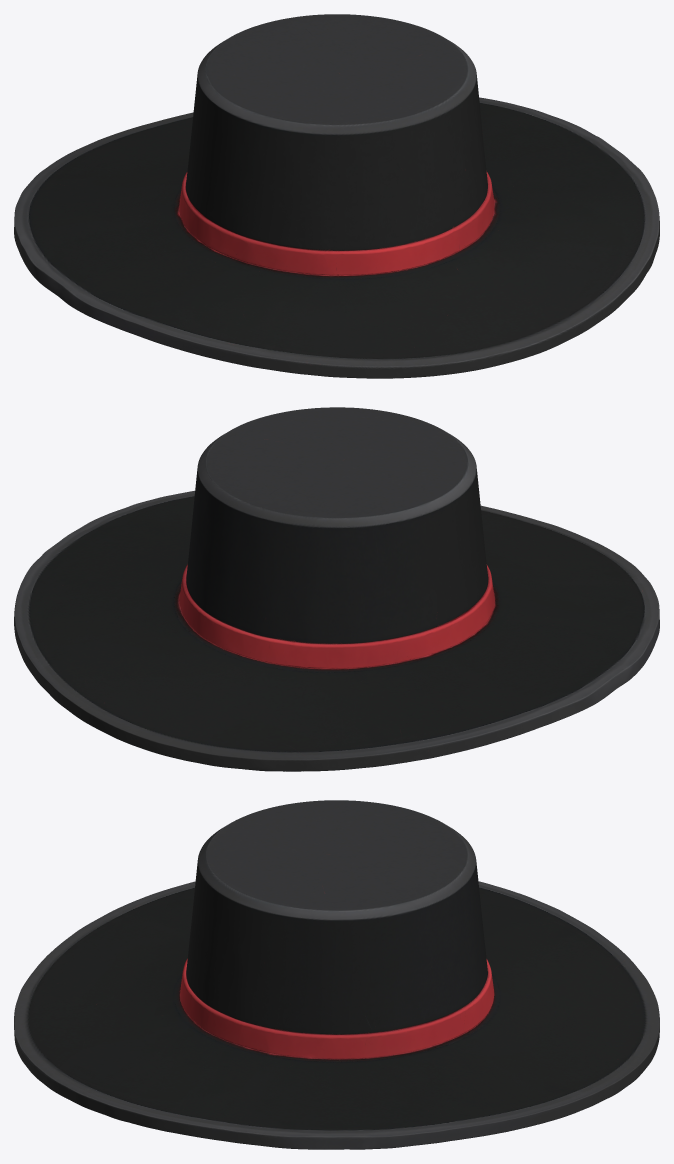
The model's file is hat_gambler.glb.
The picture shows the model from 3 angles, top to bottom: view 1: azimuth 30°, elevation 25°; view 2: azimuth 150°, elevation 25°; view 3: azimuth 270°, elevation 25°; orthographic projection.
Parts seen in each view (by area): view 1: Mesh_0; view 2: Mesh_0; view 3: Mesh_0.
Part boxes in pixels (x1,y1,x2,y2): Mesh_0: (14,14,659,378); Mesh_0: (14,407,659,771); Mesh_0: (14,800,659,1149).
Size of the model in its own units: 0.4598 by 0.1391 by 0.46.
1 material, 1 textured.
